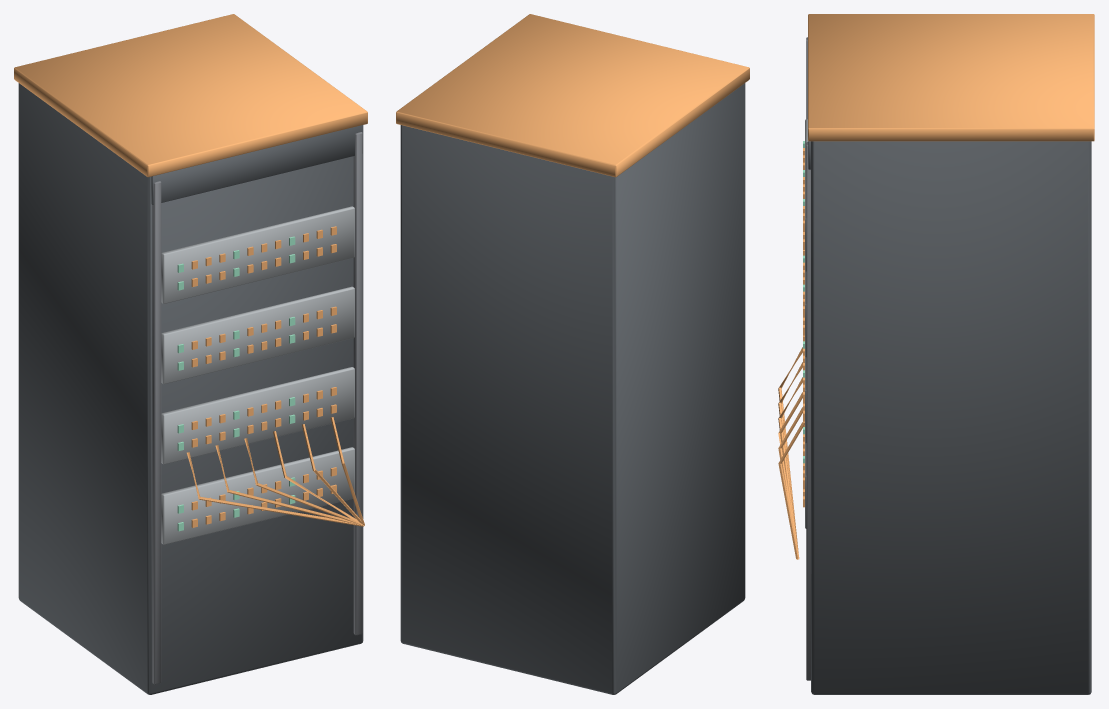
Rendered from spine.glb.
The picture shows the model from 3 angles, left to right: view 1: azimuth 30°, elevation 25°; view 2: azimuth 150°, elevation 25°; view 3: azimuth 270°, elevation 25°; orthographic projection. The views are drawn at different scales.
Parts seen in each view (by area): view 1: Body; view 2: Body; view 3: Body.
Boxes of the visible parts, box(x1,y1,x2,y2) form: Body: box(14, 14, 367, 694); Body: box(396, 14, 749, 694); Body: box(778, 14, 1094, 694).
Bounding box in the file's own units: 0.92 × 2.12 × 1.07.
